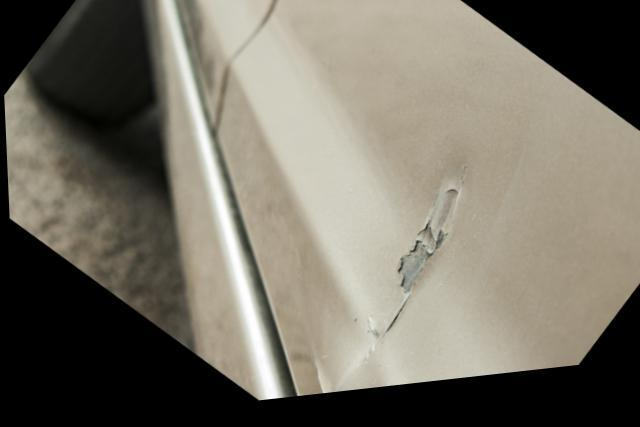scratch: (332, 174, 466, 391)
